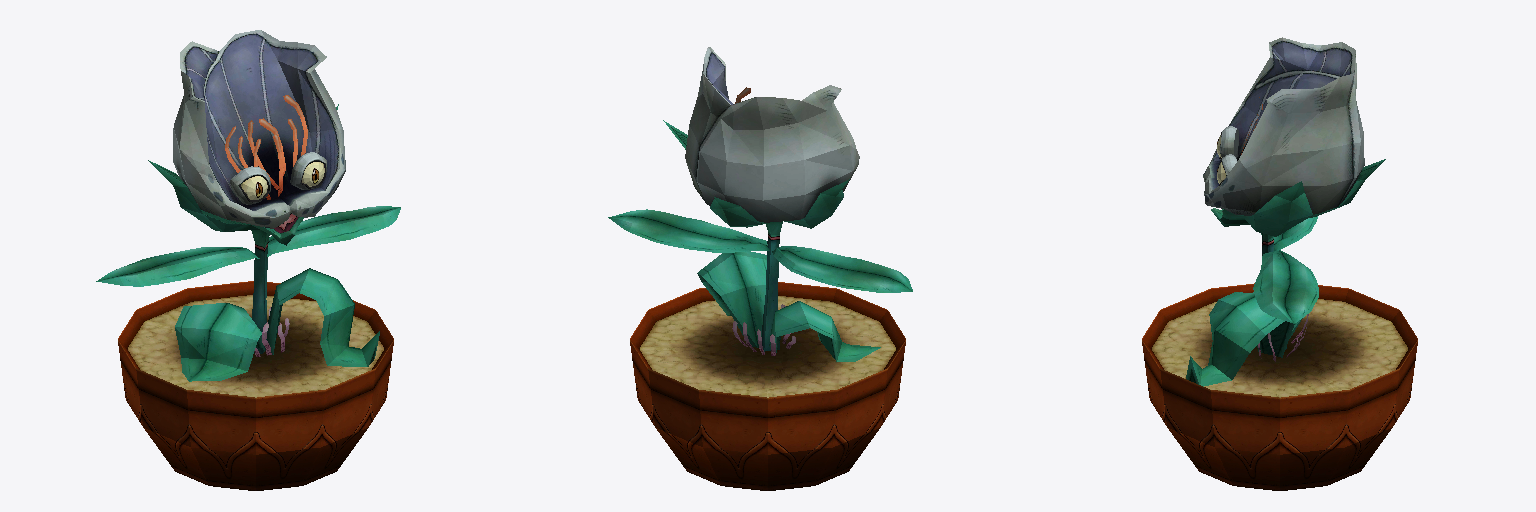
3 views of the same model, side by side, from view 1: azimuth 30°, elevation 25°; view 2: azimuth 150°, elevation 25°; view 3: azimuth 270°, elevation 25° (orthographic).
Visible parts, largest first — view 1: Mesh_0943.rip; view 2: Mesh_0943.rip; view 3: Mesh_0943.rip.
Boxes of the visible parts, x1,y1,x2,y2 form: Mesh_0943.rip: [96, 30, 400, 490]; Mesh_0943.rip: [608, 47, 912, 490]; Mesh_0943.rip: [1142, 37, 1417, 490].
Bounding box in the file's own units: 0.9092 × 1.12 × 0.7138.
Materials: 1 (1 with a texture image).